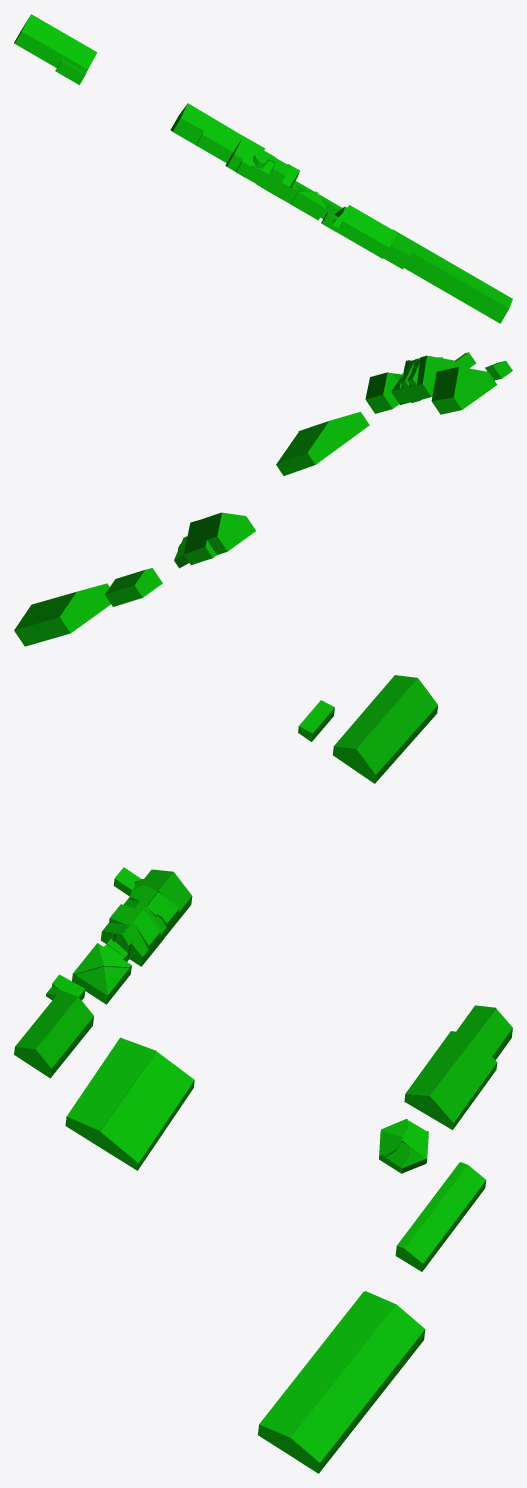
3 renders of one model, top to bottom at view 1: azimuth 30°, elevation 25°; view 2: azimuth 150°, elevation 25°; view 3: azimuth 270°, elevation 25°, orthographic. The views are drawn at different scales.
Parts seen in each view (by area): view 1: mesh; view 2: mesh; view 3: mesh.
Boxes of the visible parts, x1,y1,x2,y2 form: mesh: [14, 14, 512, 323]; mesh: [14, 352, 512, 646]; mesh: [14, 675, 512, 1473].
Bounding box in the file's own units: 137 × 109 × 95.53.
